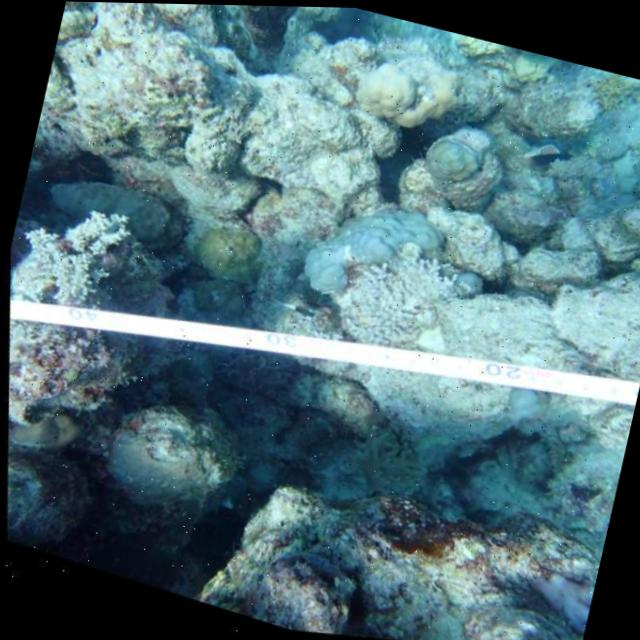Bleached Coral: (323, 226, 465, 360), (6, 192, 134, 322)
